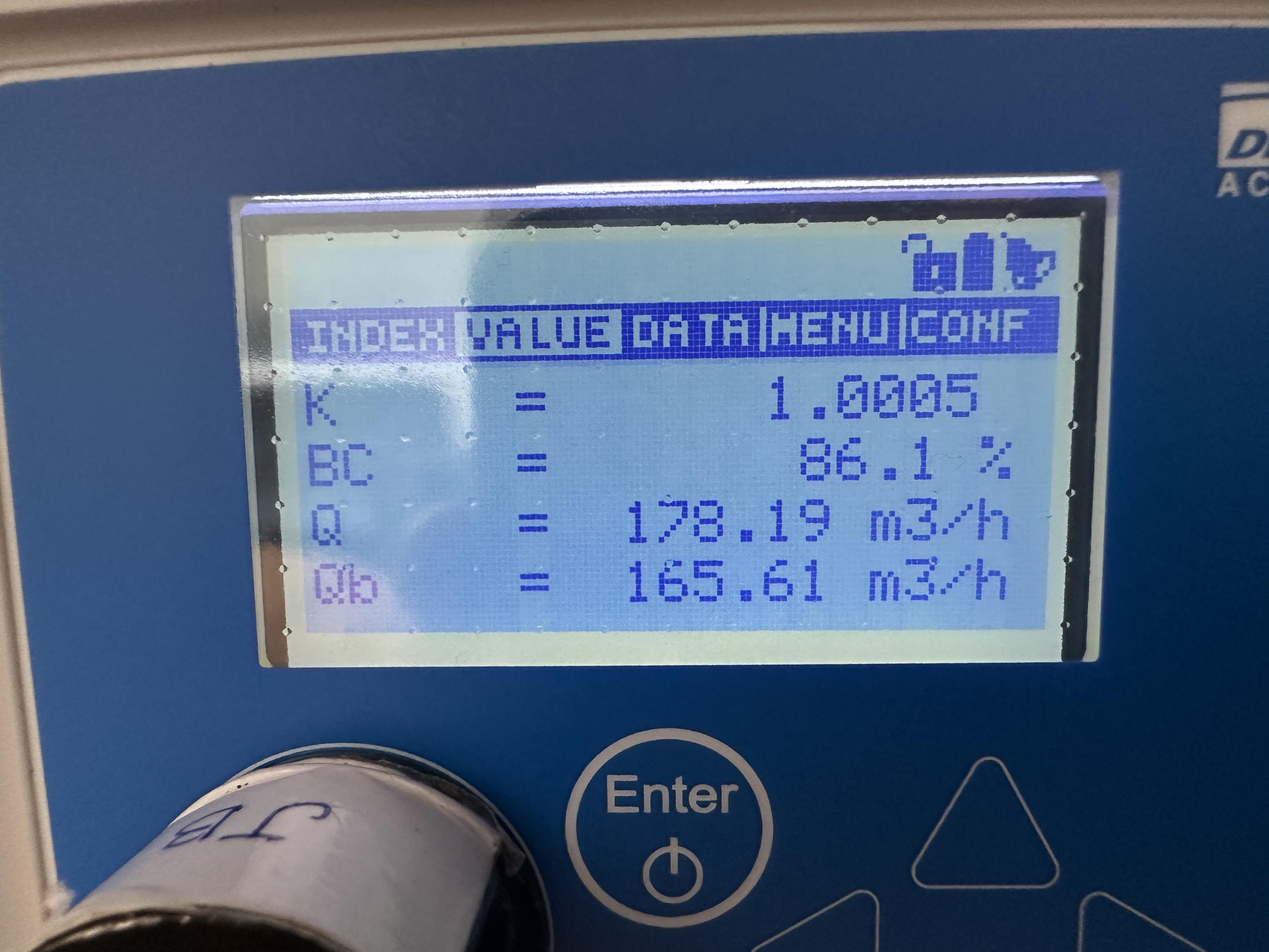digital_screen: (265, 217, 1093, 681)
